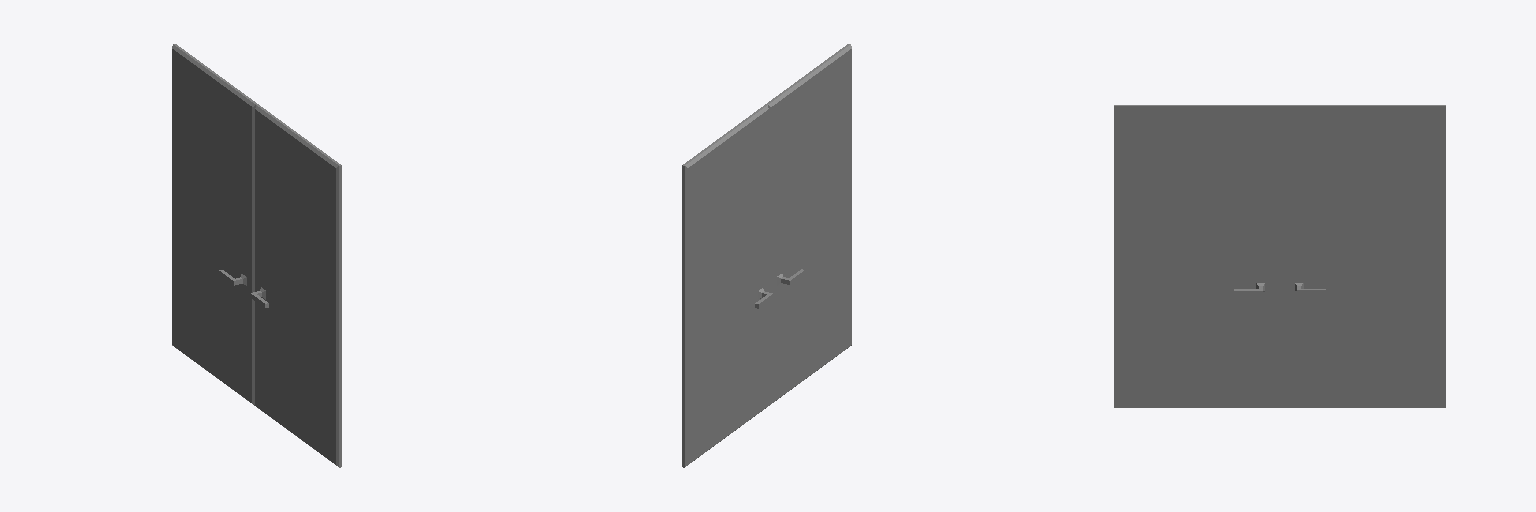
File: Door_11.obj
3 views of the same model, side by side, from view 1: azimuth 30°, elevation 25°; view 2: azimuth 150°, elevation 25°; view 3: azimuth 270°, elevation 25° (orthographic).
Visible parts, largest first — view 1: Box304, Box303; view 2: Box303, Box304; view 3: Box303, Box304.
Boxes of the visible parts, x1,y1,x2,y2 form: Box304: [255, 104, 341, 467]; Box303: [172, 44, 257, 405]; Box303: [682, 104, 768, 467]; Box304: [766, 44, 851, 405]; Box303: [1280, 105, 1445, 407]; Box304: [1114, 105, 1279, 407].
Bounding box in the file's own units: 11.32 × 118 × 118.